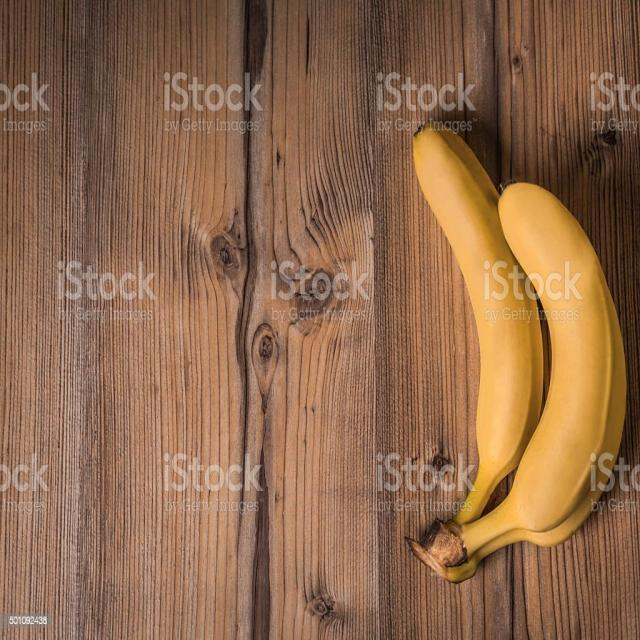Banana: (402, 106, 632, 588)
